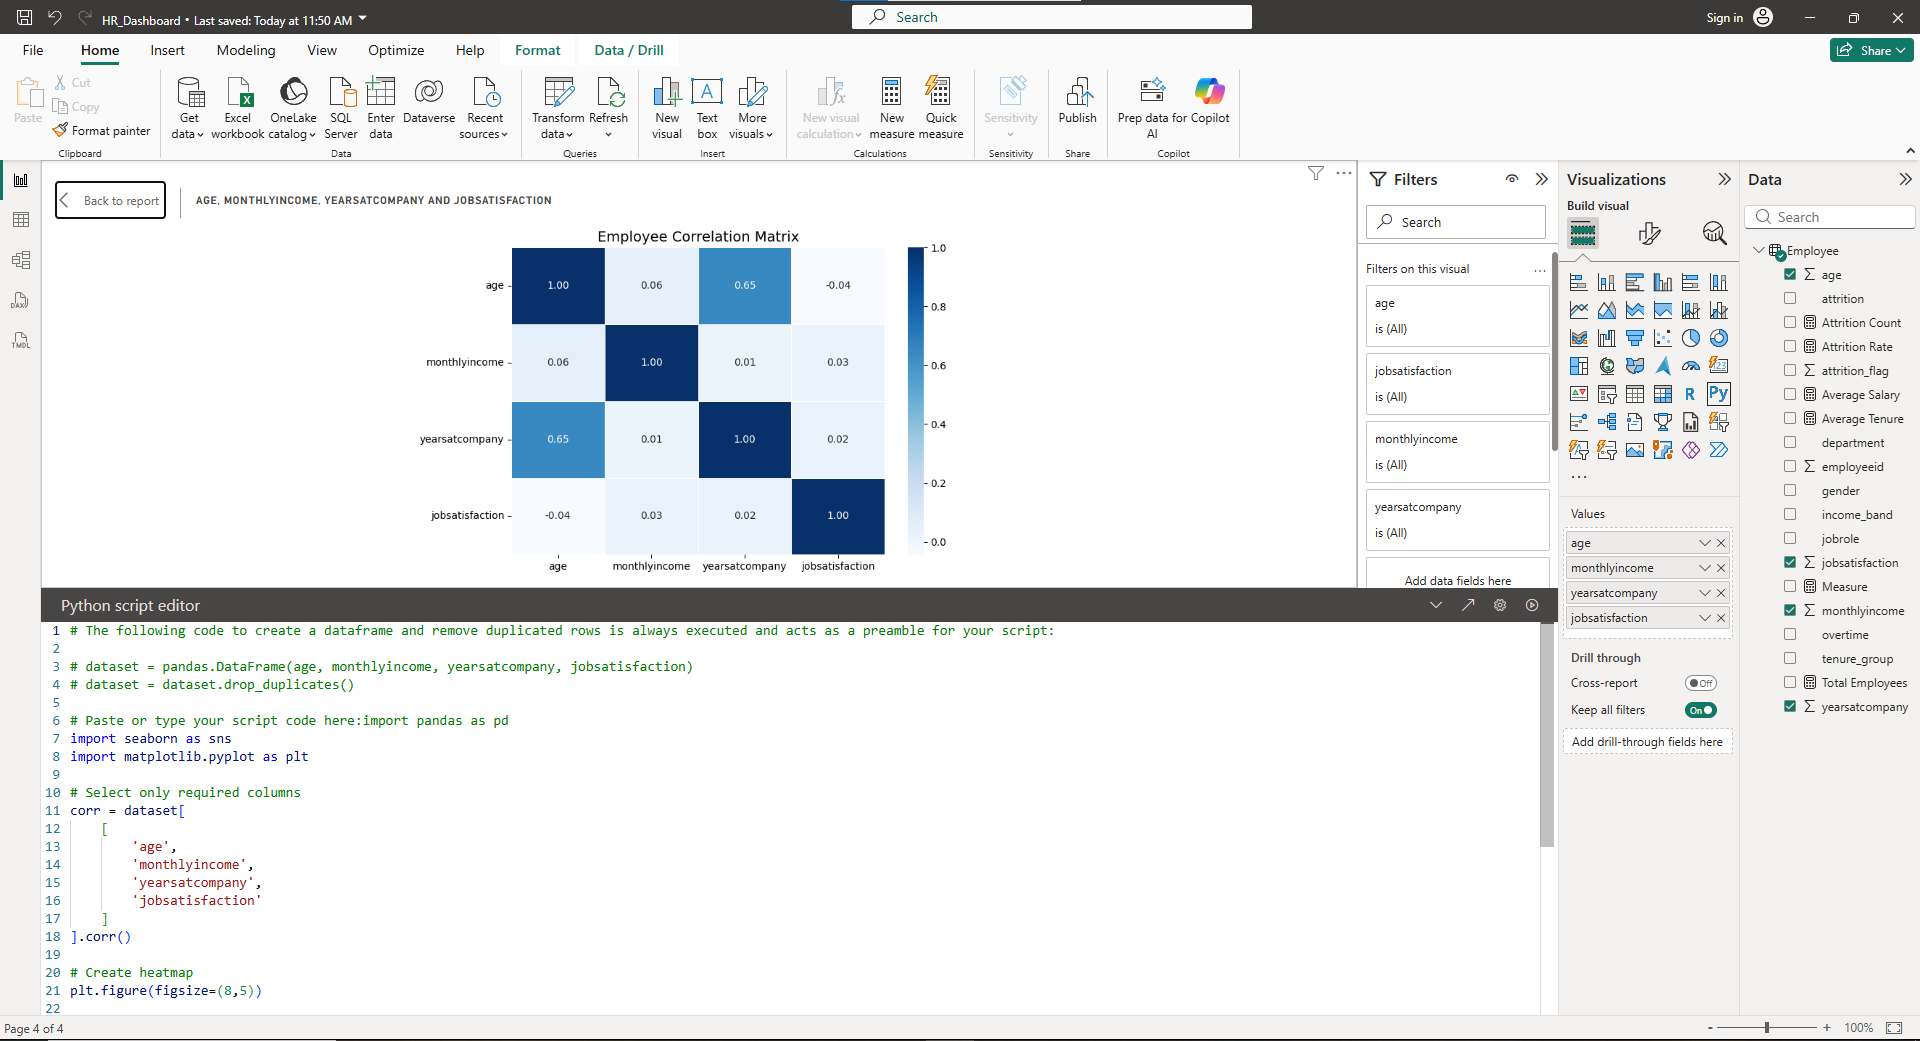

The dashboard page shown, as its layout file describes it:
{"tool":"powerbi","page":{"name":"Advanced Analytics(Python)","canvas":[1280,720],"ordinal":3},"visuals":[{"type":"pythonVisual","fields":{"Values":["Employee.age","Employee.monthlyincome","Employee.yearsatcompany","Employee.jobsatisfaction"]},"box":[400.7,80.7,381.3,279.1],"z":0},{"type":"textbox","box":[150,420,300,300],"z":1000},{"type":"textbox","box":[400.4,389.1,383.4,252.6],"z":2000},{"type":"textbox","box":[350.2,9.7,467.8,57.4],"z":3000},{"type":"textbox","box":[950,686,300.5,33.1],"z":4000}]}

Visuals, with their boxes on the page's 1280x720 design canvas (x1, y1, x2, y2). These are canvas units, not pixel positions in the 1920x1041 screenshot, which may show the page scaled, cropped or inside an application window:
pythonVisual - Employee.age x Employee.monthlyincome: [401, 81, 782, 360]
textbox: [150, 420, 450, 720]
textbox: [400, 389, 784, 642]
textbox: [350, 10, 818, 67]
textbox: [950, 686, 1250, 719]
